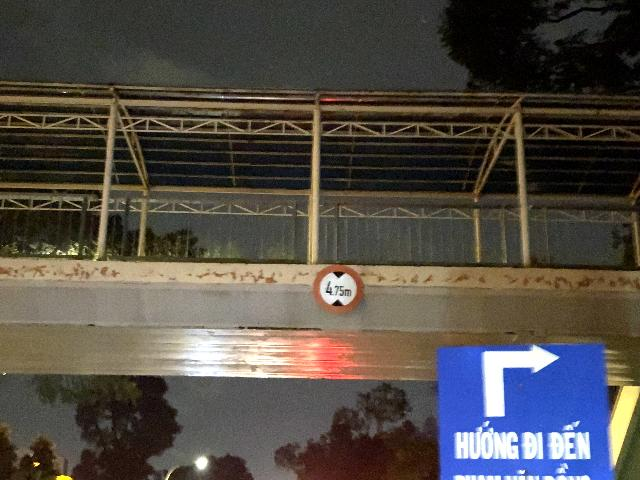han-che-chieu-cao: (313, 265, 364, 314)
